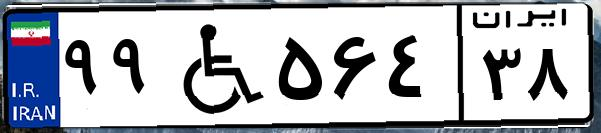3: (475, 38, 525, 113)
4: (385, 28, 445, 110)
5: (270, 28, 330, 110)
6: (330, 28, 385, 110)
8: (525, 38, 570, 115)
9: (57, 26, 110, 100), (110, 28, 158, 98)
ژ (معلولین و جانبازان): (158, 12, 270, 120)
